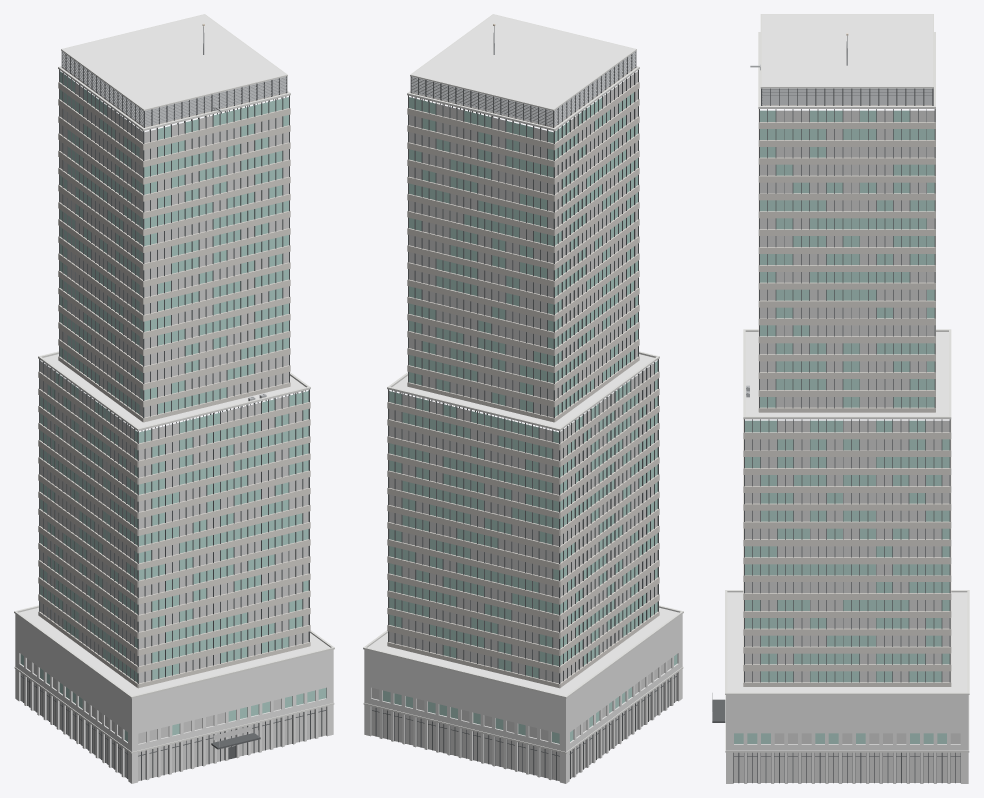
The model's file is tower_hero495.glb.
The picture shows the model from 3 angles, left to right: view 1: azimuth 30°, elevation 25°; view 2: azimuth 150°, elevation 25°; view 3: azimuth 270°, elevation 25°; orthographic projection. The views are drawn at different scales.
Parts seen in each view (by area): view 1: tower_hero495_Walls, tower_hero495_Glass, tower_hero495_WindowsLit, tower_hero495_Frames, tower_hero495_Walls2, tower_hero495_Roof, tower_hero495_Trim, tower_hero495_Details; view 2: tower_hero495_Walls, tower_hero495_WindowsLit, tower_hero495_Glass, tower_hero495_Frames, tower_hero495_Walls2, tower_hero495_Roof, tower_hero495_Trim, tower_hero495_Details; view 3: tower_hero495_Walls, tower_hero495_WindowsLit, tower_hero495_Glass, tower_hero495_Roof, tower_hero495_Frames, tower_hero495_Walls2, tower_hero495_Trim, tower_hero495_Details.
Boxes of the visible parts, x1,y1,x2,y2 form: tower_hero495_Walls: [38, 67, 310, 688]; tower_hero495_Glass: [20, 71, 326, 741]; tower_hero495_WindowsLit: [21, 83, 325, 781]; tower_hero495_Frames: [20, 51, 326, 780]; tower_hero495_Walls2: [15, 614, 333, 783]; tower_hero495_Roof: [19, 14, 329, 695]; tower_hero495_Trim: [14, 14, 334, 753]; tower_hero495_Details: [62, 26, 286, 747]; tower_hero495_Walls: [387, 67, 659, 688]; tower_hero495_WindowsLit: [371, 71, 676, 781]; tower_hero495_Glass: [383, 92, 677, 743]; tower_hero495_Frames: [371, 51, 677, 780]; tower_hero495_Walls2: [364, 614, 682, 783]; tower_hero495_Roof: [368, 14, 678, 695]; tower_hero495_Trim: [363, 14, 683, 753]; tower_hero495_Details: [411, 26, 635, 126]; tower_hero495_Walls: [743, 105, 951, 686]; tower_hero495_WindowsLit: [734, 110, 960, 782]; tower_hero495_Glass: [734, 110, 949, 743]; tower_hero495_Roof: [727, 14, 967, 692]; tower_hero495_Frames: [733, 88, 960, 783]; tower_hero495_Walls2: [726, 695, 968, 783]; tower_hero495_Trim: [725, 14, 969, 752]; tower_hero495_Details: [712, 35, 932, 720].
Bounding box in the file's own units: 161 × 520 × 170.
